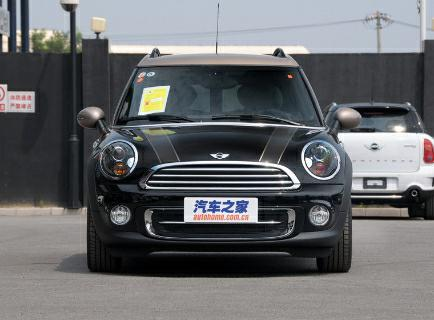MINI CLUBMAN: (82, 74, 354, 285)
